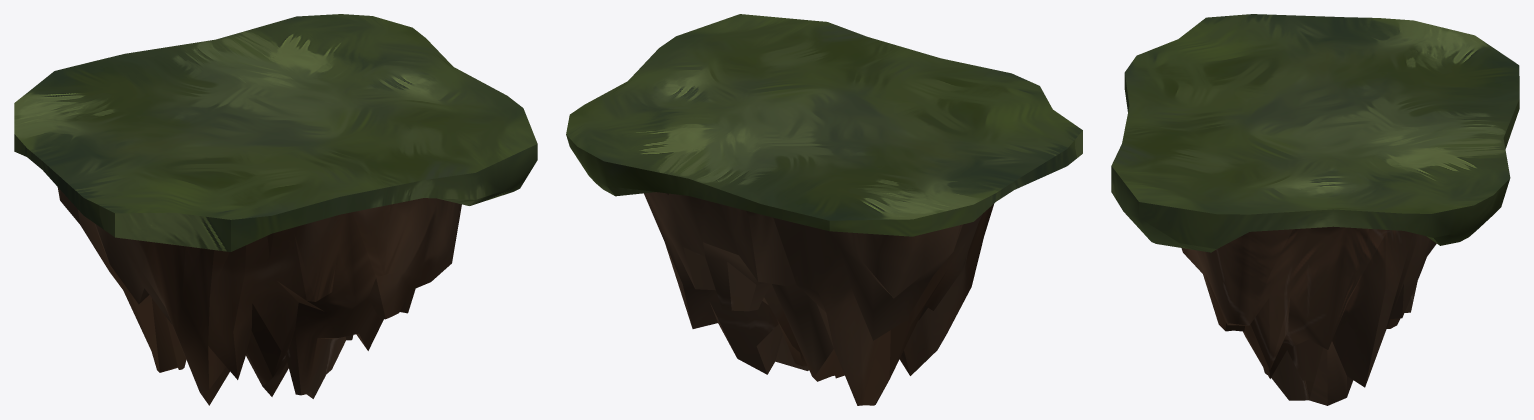
The model's file is wyspa_srednia_2.obj.
3 renders of one model, left to right at view 1: azimuth 30°, elevation 25°; view 2: azimuth 150°, elevation 25°; view 3: azimuth 270°, elevation 25°, orthographic. The views are drawn at different scales.
Parts seen in each view (by area): view 1: Landscape.001; view 2: Landscape.001; view 3: Landscape.001.
Part boxes in pixels (x1,y1,x2,y2): Landscape.001: (14,14,537,405); Landscape.001: (566,14,1082,405); Landscape.001: (1111,14,1519,405).
Size of the model in its own units: 79.44 by 49.62 by 68.32.
Materials: 2 (2 with a texture image).
